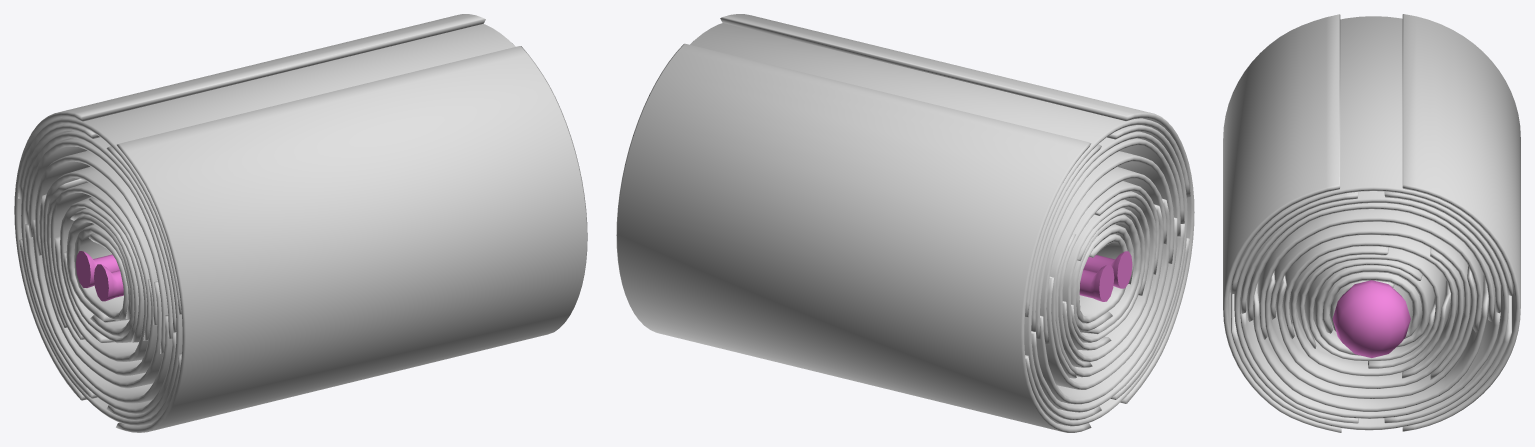
File: huton_2(20)_m.FBX
3 views of the same model, side by side, from view 1: azimuth 30°, elevation 25°; view 2: azimuth 150°, elevation 25°; view 3: azimuth 270°, elevation 25° (orthographic). The views are drawn at different scales.
Parts seen in each view (by area): view 1: huton1; view 2: huton1; view 3: huton1.
Boxes of the visible parts, <box> form: huton1: <box>14,14,587,432</box>; huton1: <box>616,14,1194,432</box>; huton1: <box>1223,14,1520,432</box>.
Bounding box in the file's own units: 181 × 105 × 114.
